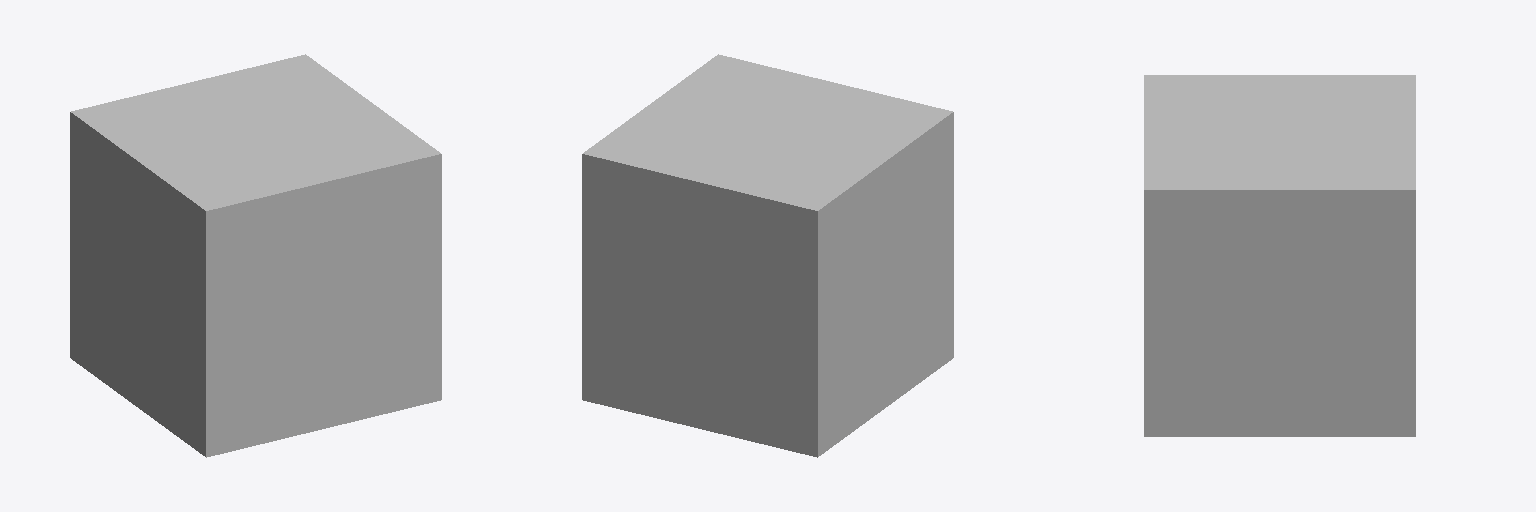
The model's file is cubes_wall5.obj.
3 renders of one model, left to right at view 1: azimuth 30°, elevation 25°; view 2: azimuth 150°, elevation 25°; view 3: azimuth 270°, elevation 25°, orthographic.
Size of the model in its own units: 0.1 by 0.1 by 0.1.